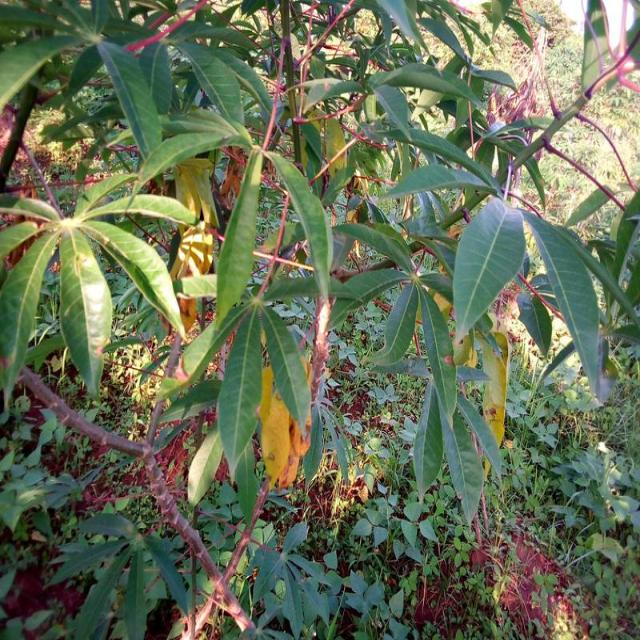cassava leaf: (520, 208, 602, 401), (451, 195, 526, 345), (58, 226, 112, 398)
